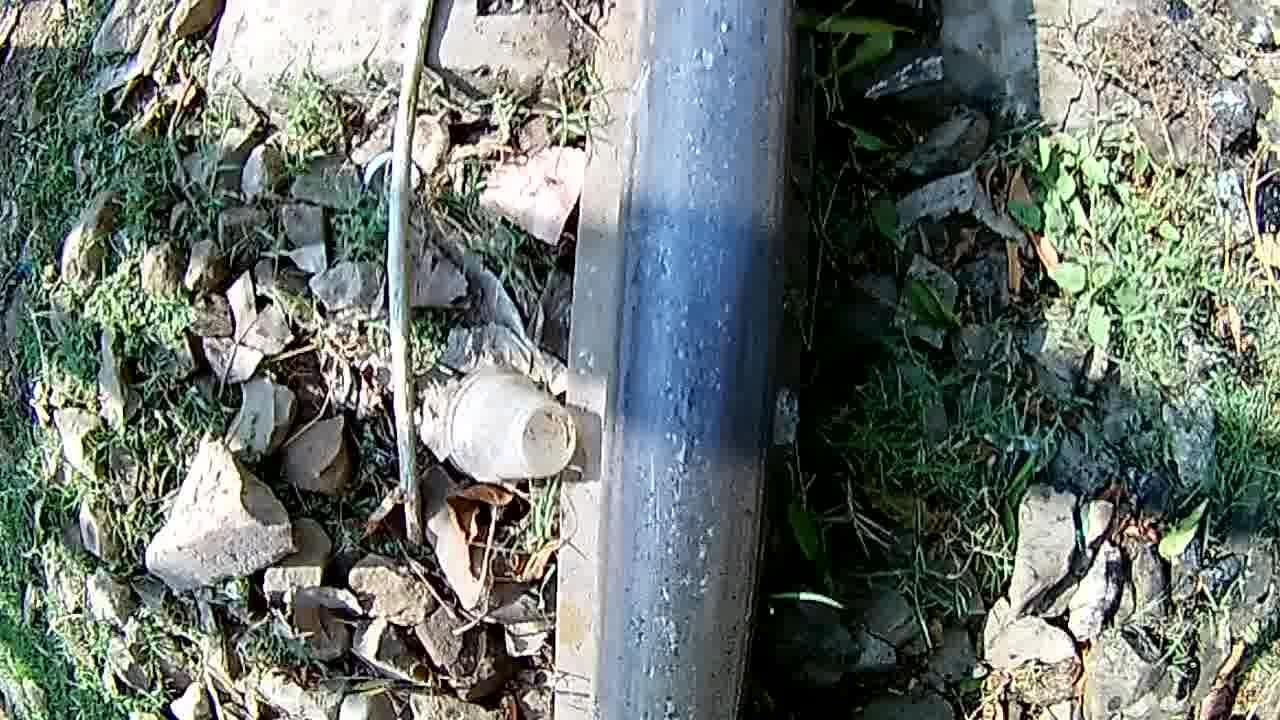crack: (604, 0, 793, 720)
